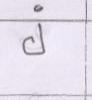anusvara: (35, 6, 42, 12)
